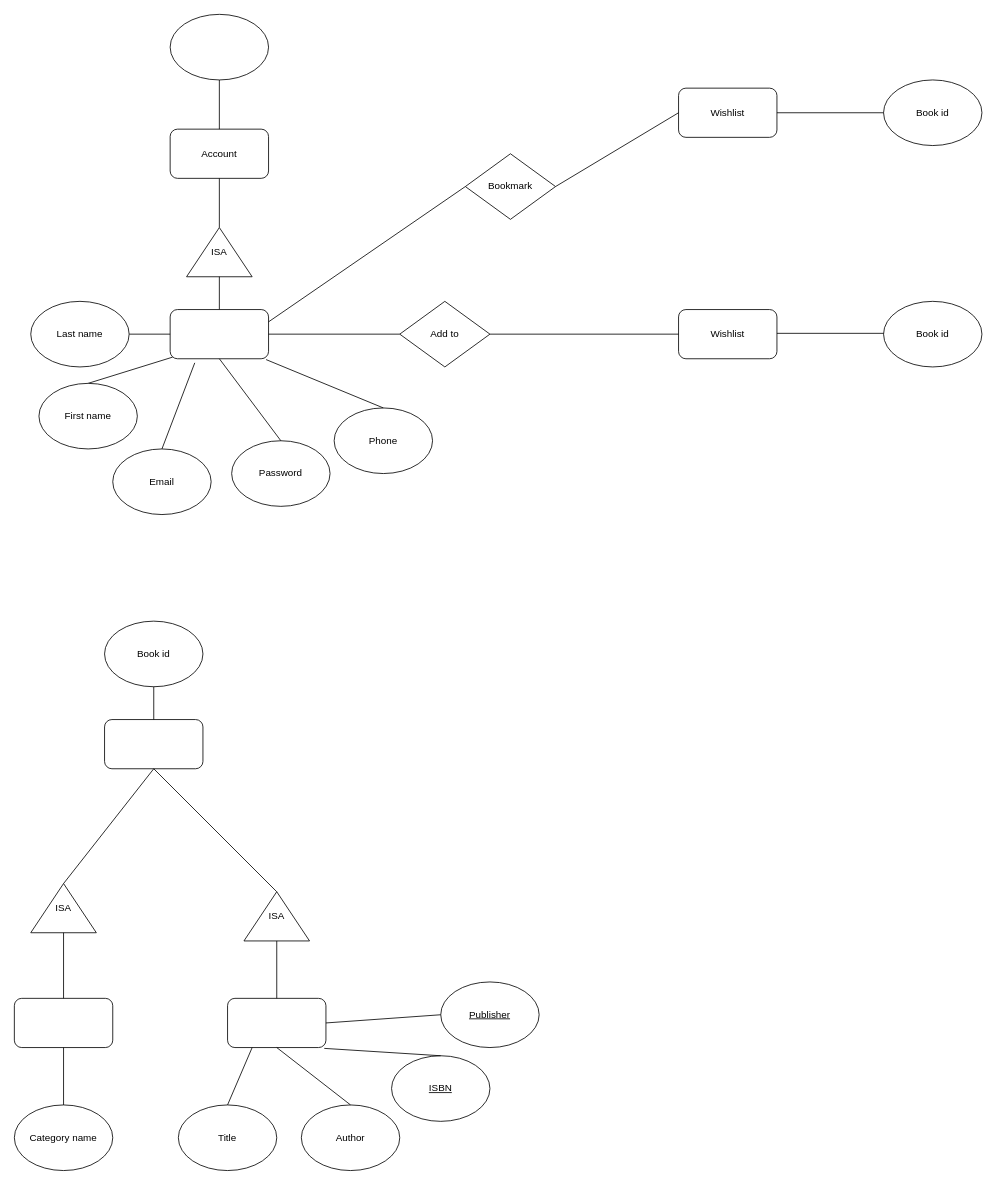
This 996x1185 diagram has some shape labels left out. Each missing label, with the centre of its shape:
"Books" goes at [153,744].
"Category" goes at [63,1023].
"id" goes at [219,47].
"Textbook" goes at [276,1023].
"User" goes at [219,334].
